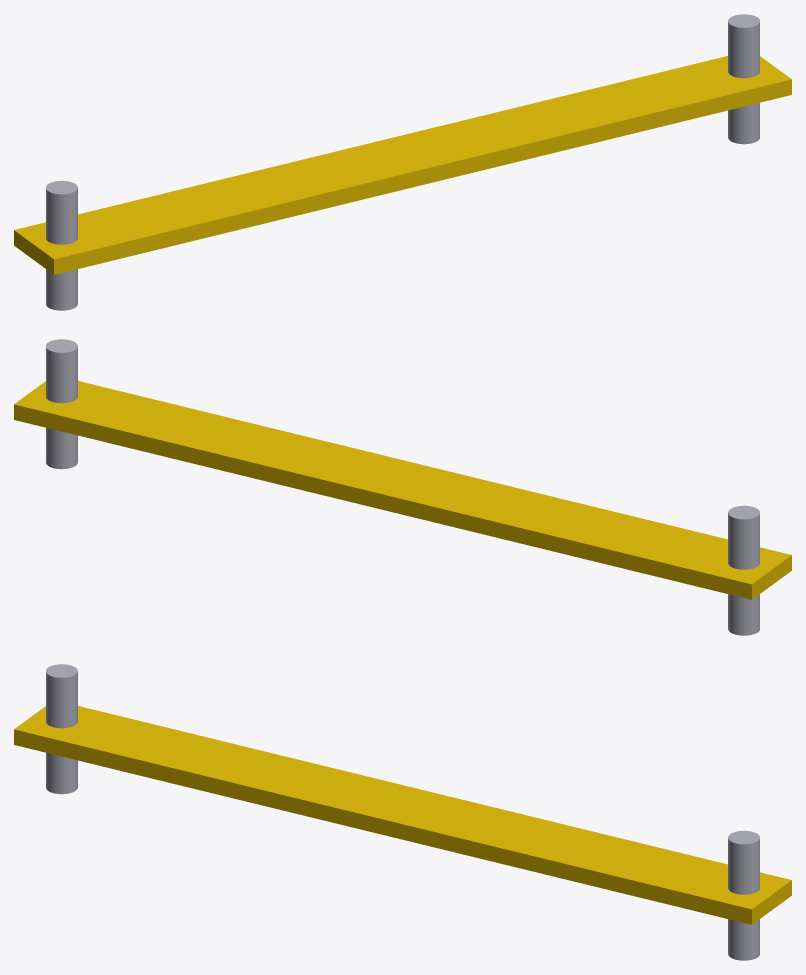
Rendered from PF-K400_drawbars_and_pins.glb.
The picture shows the model from 3 angles, top to bottom: view 1: azimuth 30°, elevation 25°; view 2: azimuth 150°, elevation 25°; view 3: azimuth 330°, elevation 25°; orthographic projection.
Visible parts, largest first — view 1: 000 DB-1473 drawbar PL32x150 A572-50, 001 DB-1473 pin Ã60 4140, 002 DB-1473 pin Ã60 4140; view 2: 000 DB-1473 drawbar PL32x150 A572-50, 001 DB-1473 pin Ã60 4140, 002 DB-1473 pin Ã60 4140; view 3: 000 DB-1473 drawbar PL32x150 A572-50, 002 DB-1473 pin Ã60 4140, 001 DB-1473 pin Ã60 4140.
Part boxes in pixels (bbox=[...]): 000 DB-1473 drawbar PL32x150 A572-50: bbox=[14, 56, 791, 274]; 001 DB-1473 pin Ã60 4140: bbox=[46, 180, 77, 310]; 002 DB-1473 pin Ã60 4140: bbox=[728, 14, 759, 144]; 000 DB-1473 drawbar PL32x150 A572-50: bbox=[14, 381, 791, 599]; 001 DB-1473 pin Ã60 4140: bbox=[728, 505, 759, 635]; 002 DB-1473 pin Ã60 4140: bbox=[46, 339, 77, 469]; 000 DB-1473 drawbar PL32x150 A572-50: bbox=[14, 706, 791, 924]; 002 DB-1473 pin Ã60 4140: bbox=[728, 830, 759, 960]; 001 DB-1473 pin Ã60 4140: bbox=[46, 664, 77, 794].
Size of the model in its own units: 1593 by 240 by 150.
